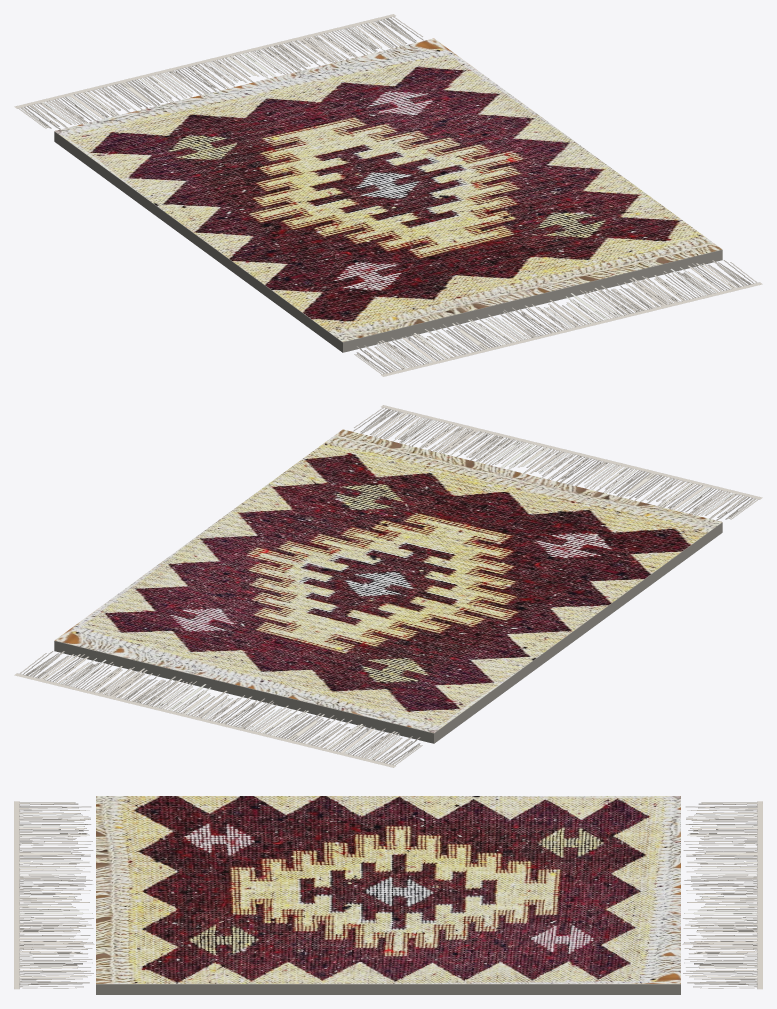
3 renders of one model, top to bottom at view 1: azimuth 30°, elevation 25°; view 2: azimuth 150°, elevation 25°; view 3: azimuth 270°, elevation 25°, orthographic.
Parts seen in each view (by area): view 1: rug, fringeB, fringeA, side; view 2: rug, fringeA, fringeB, side; view 3: rug, fringeB, fringeA, side.
Part boxes in pixels (<box>): rug: <box>55,38,722,341</box>; fringeB: <box>354,260,762,376</box>; fringeA: <box>14,14,423,129</box>; side: <box>54,131,722,352</box>; rug: <box>54,429,721,732</box>; fringeA: <box>14,651,422,767</box>; fringeB: <box>353,405,762,520</box>; side: <box>54,522,722,743</box>; rug: <box>96,796,680,983</box>; fringeB: <box>14,801,94,989</box>; fringeA: <box>682,801,762,989</box>; side: <box>96,984,680,994</box>.
Size of what is drawn, in the model's own units: 0.38 by 0.0102 by 0.64.
2 materials, 2 textured.
